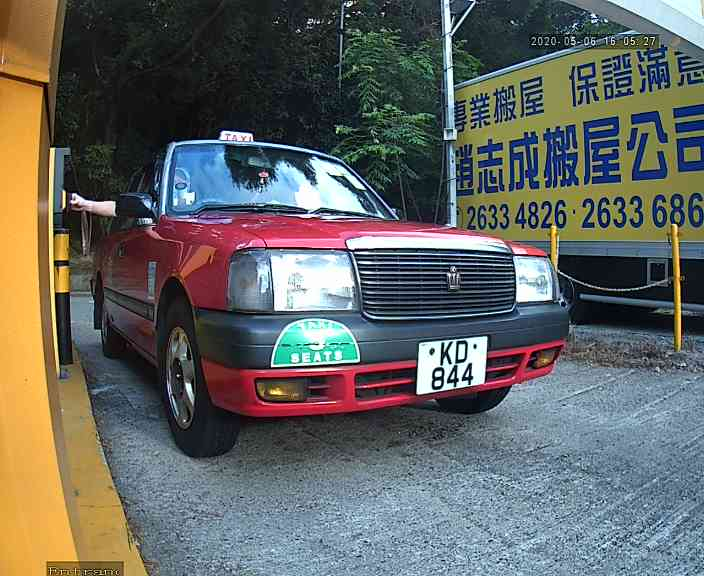taxi: (60, 104, 599, 501)
taxi_mark: (265, 310, 373, 379)
